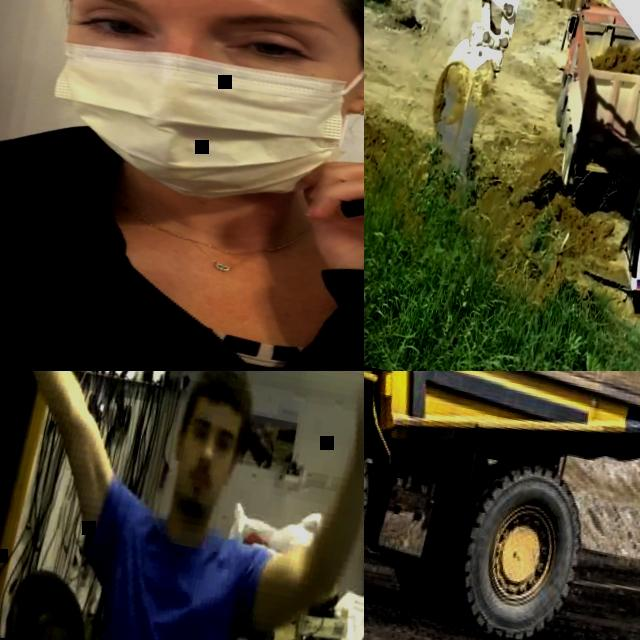machinery: (390, 0, 640, 371), (364, 371, 640, 640), (533, 0, 640, 207)
mask: (22, 0, 364, 209)
no_helmet: (195, 371, 260, 421)
no_mask: (175, 462, 224, 518)
no_vest: (0, 135, 364, 371), (91, 524, 255, 640)
person: (0, 0, 364, 371), (0, 371, 364, 640)
